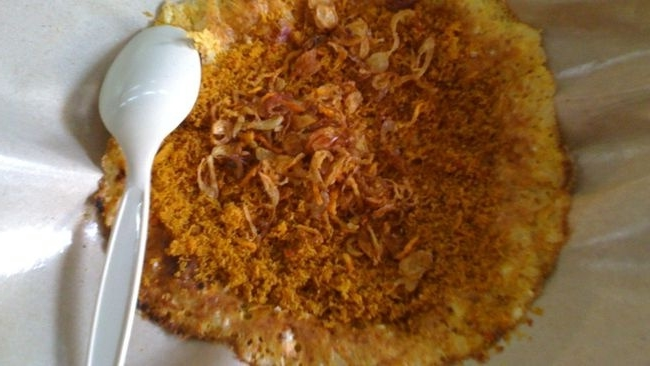kerak_telor: (205, 1, 570, 366)
